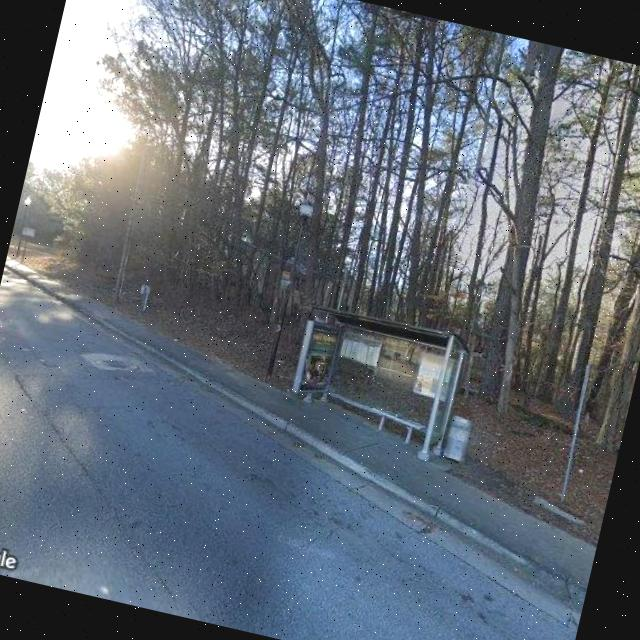seating: (370, 406, 427, 448)
shelter: (282, 300, 474, 462)
trash_can: (441, 414, 474, 464)
